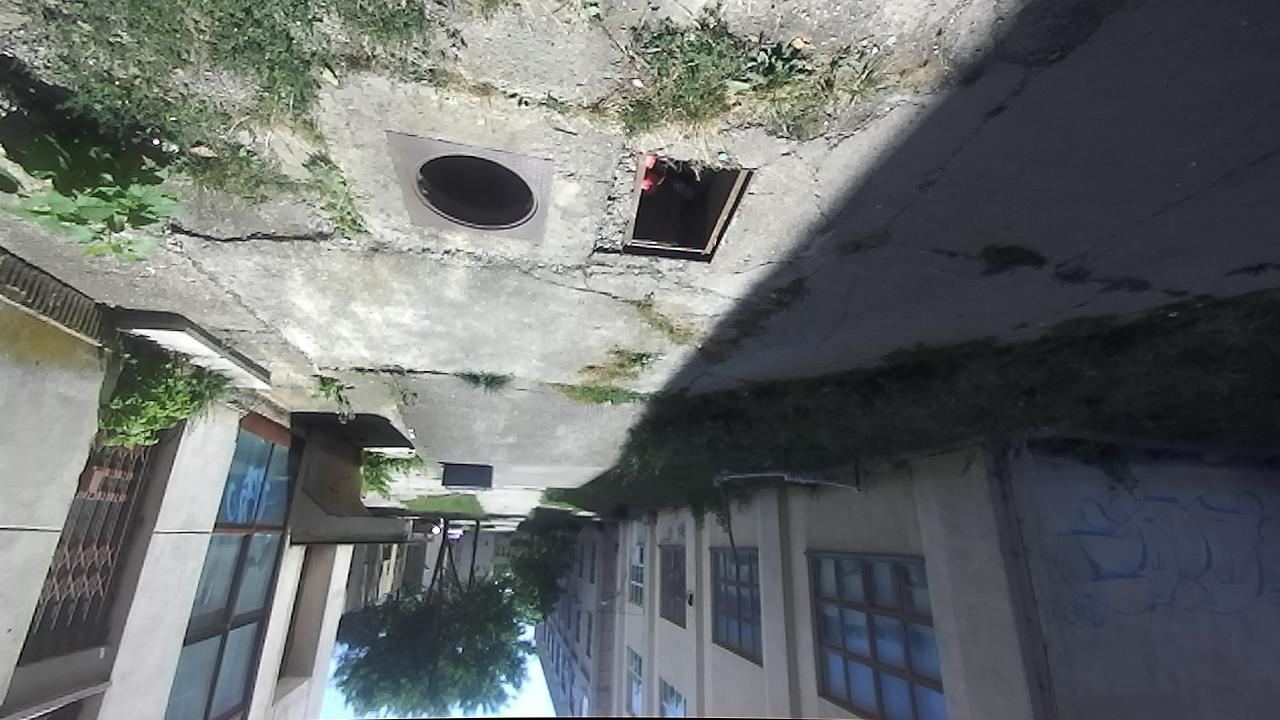drain: (613, 155, 761, 268), (406, 145, 543, 232)
